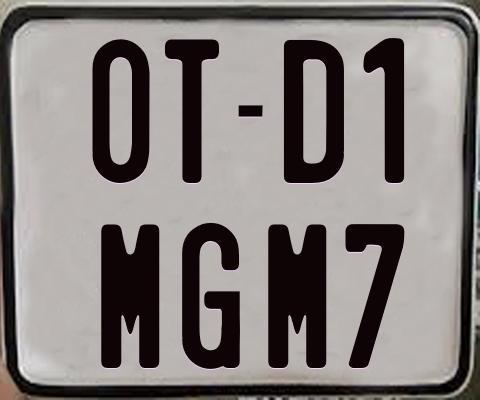0: (89, 39, 148, 188)
1: (363, 38, 405, 189)
7: (345, 223, 408, 372)
D: (284, 38, 344, 181)
G: (182, 223, 242, 370)
M: (98, 223, 159, 367), (265, 223, 324, 367)
T: (164, 38, 218, 184)
